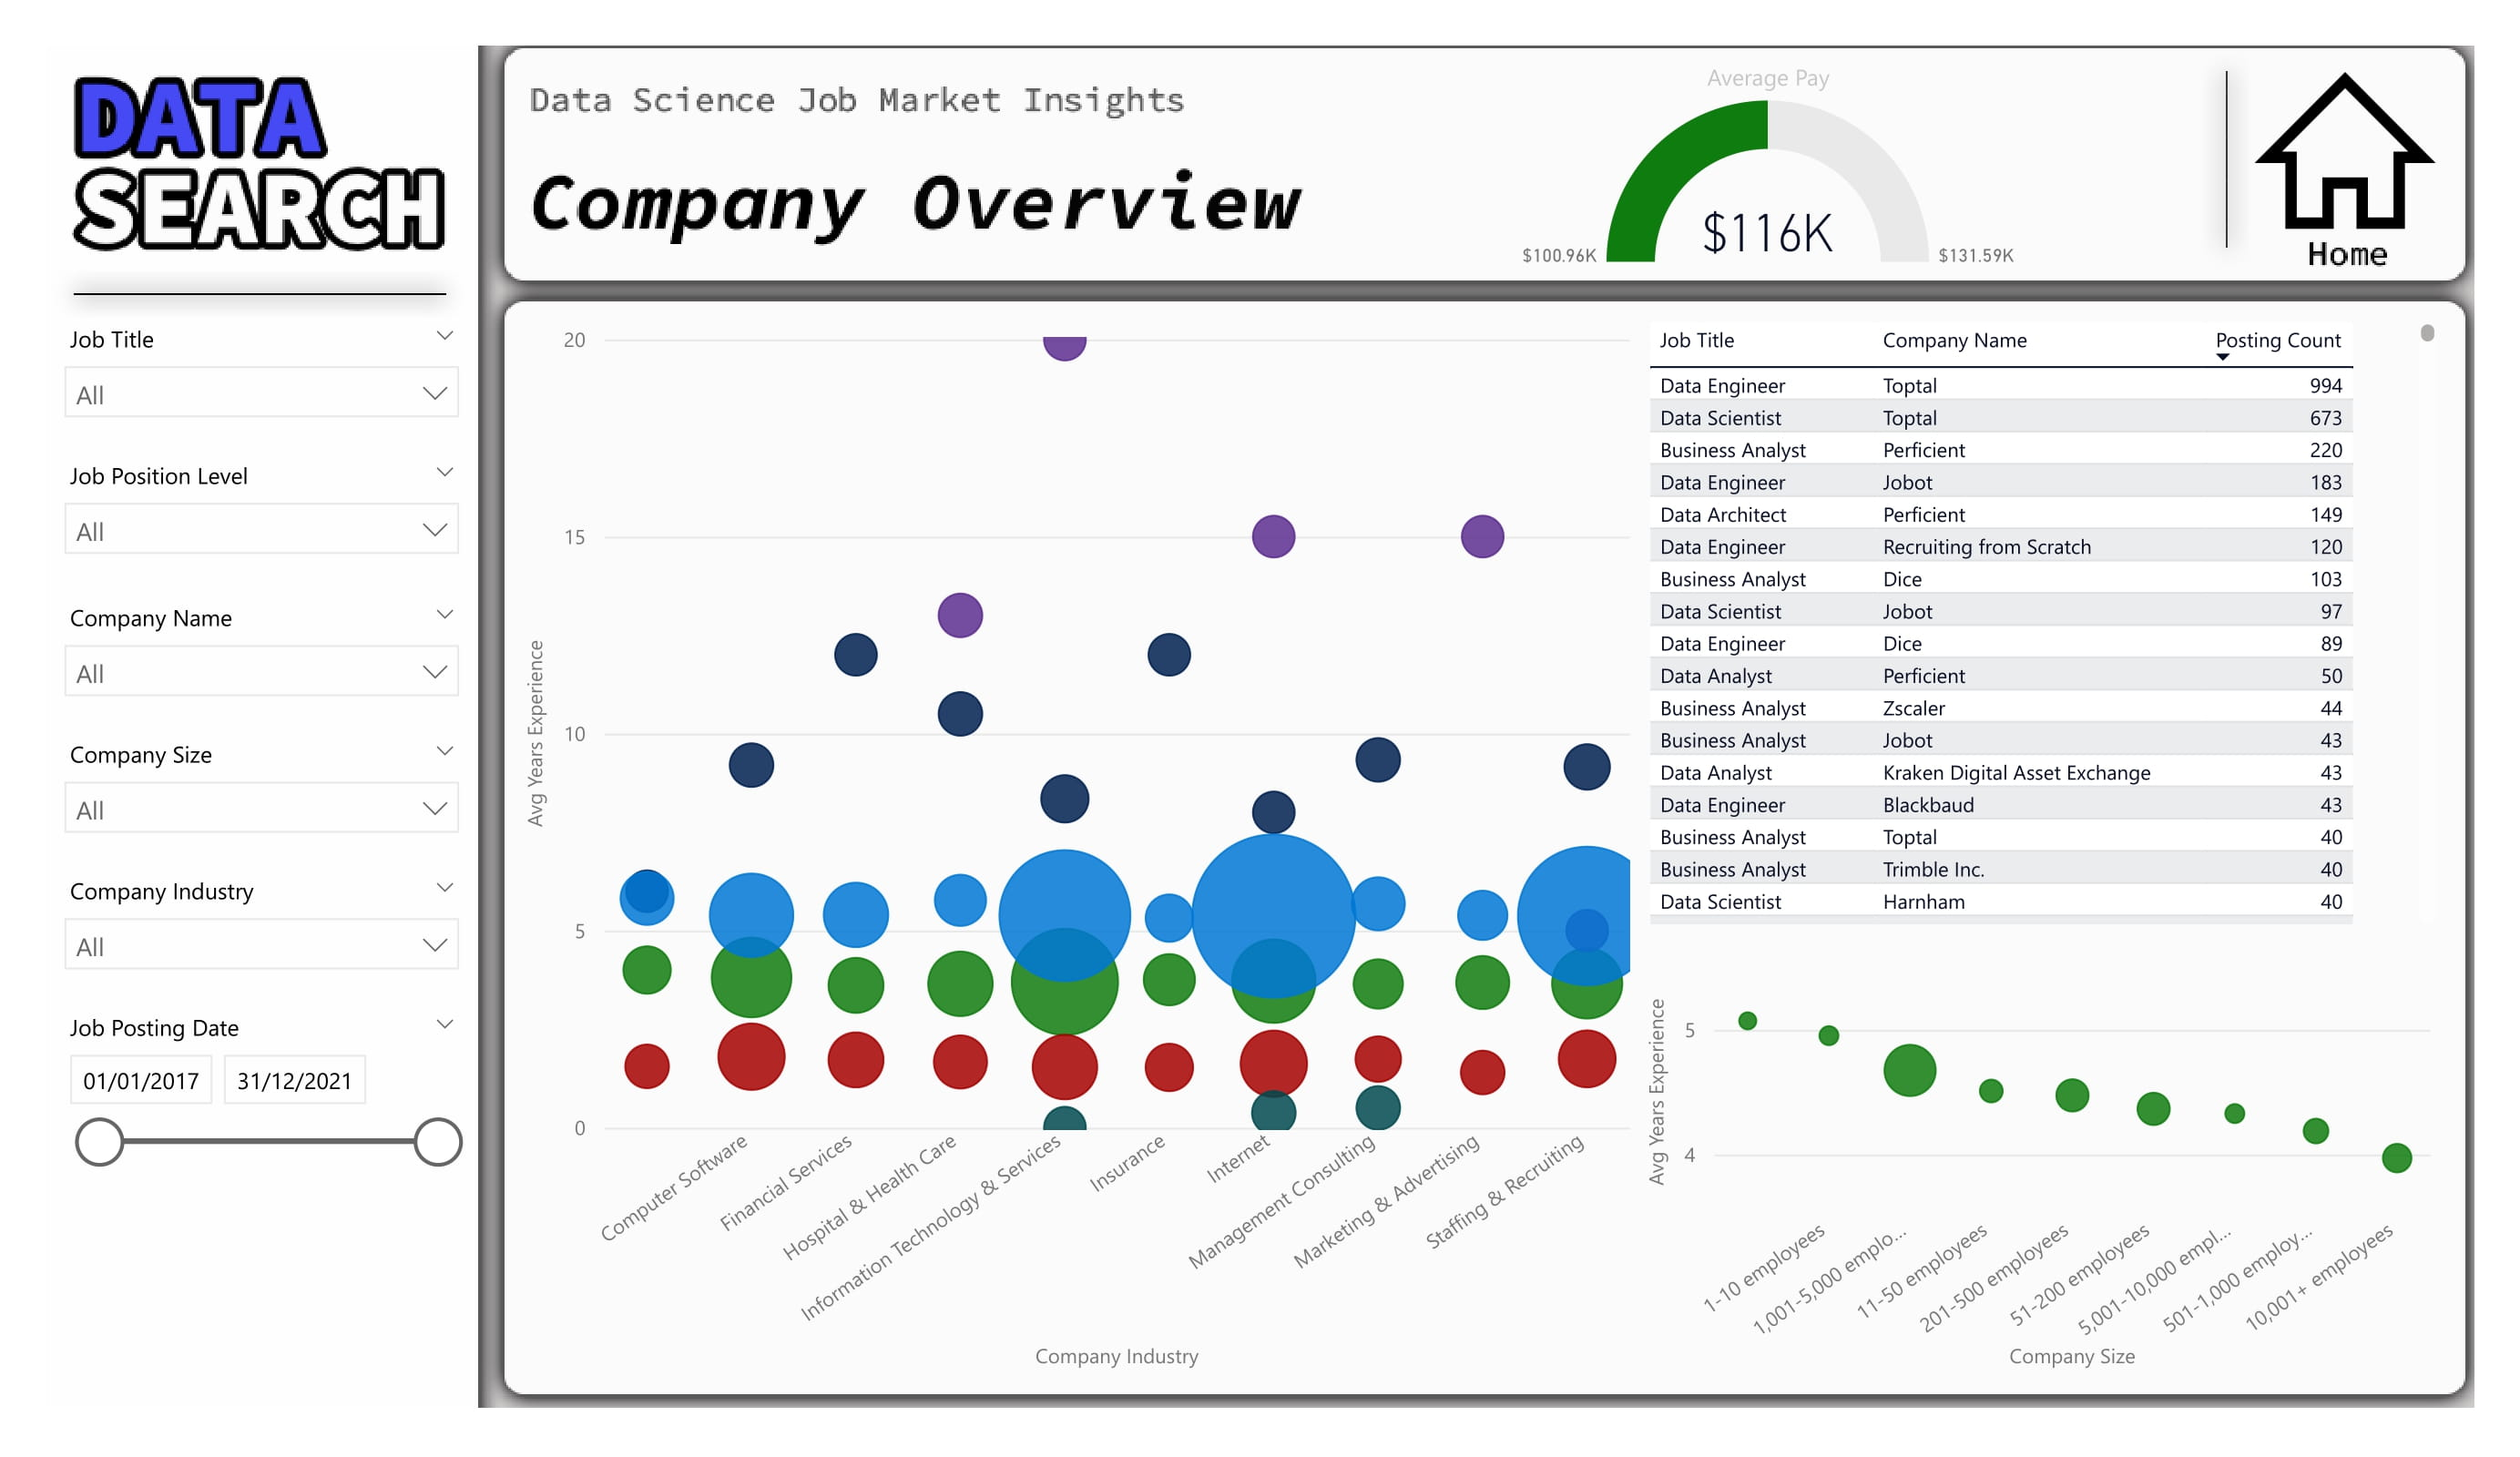

Layout of this report page (visuals, bound fields, positions):
{"tool":"powerbi","page":{"name":"Company","canvas":[1280,720],"ordinal":3},"visuals":[{"type":"slicer","fields":{"Values":["Job Postings.Job Posting Date"]},"box":[0,503.8,227.6,215.9],"z":0},{"type":"slicer","fields":{"Values":["Job Postings.Company Industry"]},"box":[0,431.9,227.6,72],"z":1000},{"type":"slicer","fields":{"Values":["Job Postings.Company Size"]},"box":[0,359.9,227.6,72],"z":2000},{"type":"slicer","fields":{"Values":["Job Postings.Company Name"]},"box":[0,287.9,227.6,72],"z":3000},{"type":"slicer","fields":{"Values":["Job Postings.Job Position Level"]},"box":[0,213,227.6,72],"z":4000},{"type":"slicer","fields":{"Values":["Job Postings.Job Title"]},"box":[0,141,227.6,72],"z":5000},{"type":"scatterChart","fields":{"Y":["Avg(Job Postings.Years of Experience)"],"X":["Job Postings.Company Industry"],"Size":["_Measures.Posting Count"],"Series":["Job Postings.Job Position Level"]},"box":[249,141,591.4,561.2],"z":6000},{"type":"tableEx","fields":{"Values":["Job Postings.Job Title","Job Postings.Company Name","_Measures.Posting Count"]},"box":[840.4,141,425,326.8],"z":7000},{"type":"gauge","title":"Average Pay","fields":{"MinValue":["Avg(Job Postings.Minimum Pay)"],"MaxValue":["Avg(Job Postings.Maximum Pay)"],"Y":["Avg(Job Postings.Average Pay)"]},"box":[699.3,7.8,417.3,115.7],"z":8000},{"type":"scatterChart","fields":{"Y":["Avg(Job Postings.Years of Experience)"],"X":["Job Postings.Company Size"],"Size":["_Measures.Posting Count"]},"box":[840.4,471.7,422.1,230.5],"z":9000},{"type":"image","box":[1159.4,0,106,111.9],"z":10000}]}

Visuals, with their boxes on the page's 1280x720 design canvas (x1, y1, x2, y2). These are canvas units, not pixel positions in the 2520x1457 screenshot, which may show the page scaled, cropped or inside an application window:
slicer - Job Postings.Job Posting Date: (0, 504, 228, 720)
slicer - Job Postings.Company Industry: (0, 432, 228, 504)
slicer - Job Postings.Company Size: (0, 360, 228, 432)
slicer - Job Postings.Company Name: (0, 288, 228, 360)
slicer - Job Postings.Job Position Level: (0, 213, 228, 285)
slicer - Job Postings.Job Title: (0, 141, 228, 213)
scatterChart - Avg(Job Postings.Years of Experience) x Job Postings.Company Industry: (249, 141, 840, 702)
tableEx - Job Postings.Job Title x Job Postings.Company Name: (840, 141, 1265, 468)
"Average Pay" gauge: (699, 8, 1117, 124)
scatterChart - Avg(Job Postings.Years of Experience) x Job Postings.Company Size: (840, 472, 1262, 702)
image: (1159, 0, 1265, 112)
